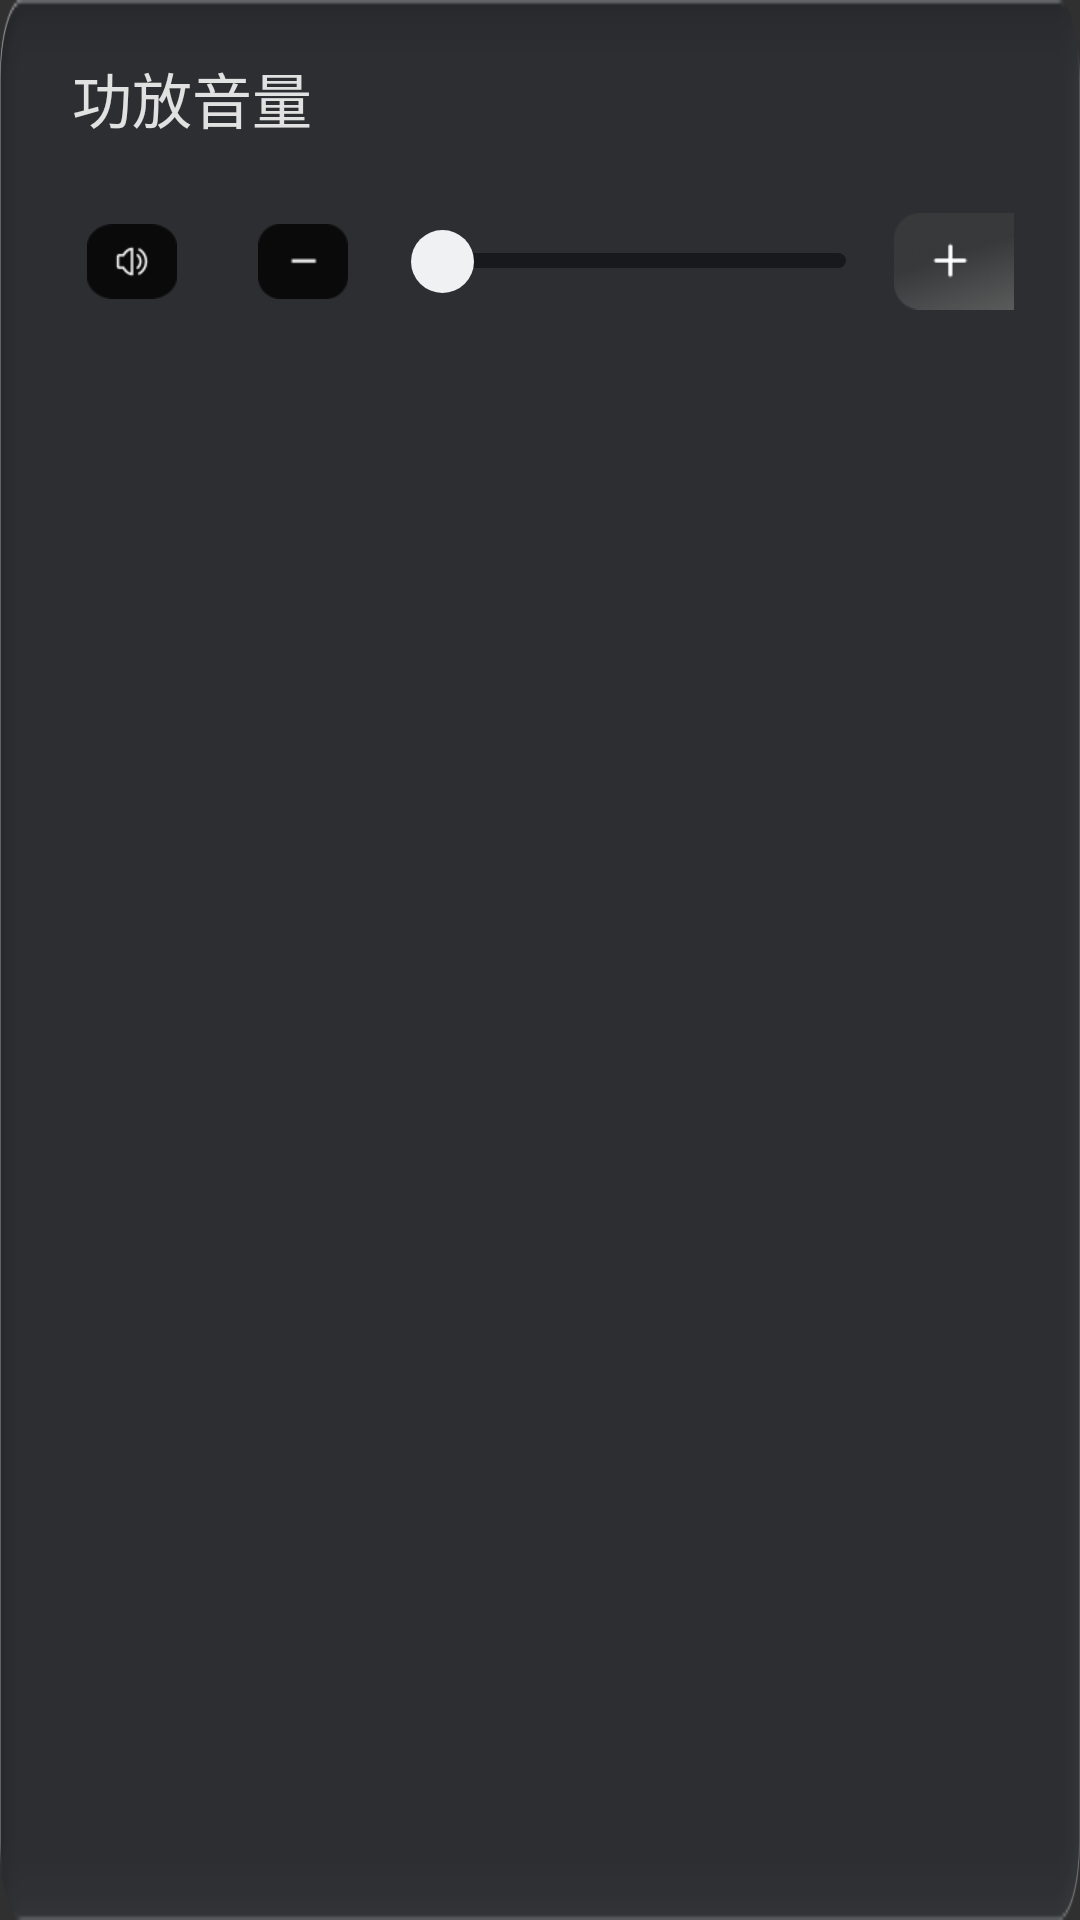

Icon bounding boxes for this 1080*1920 phone screenshot, format (x1, y1, x2, y2):
volume down: (258, 224, 348, 299)
volume up: (894, 213, 1014, 310)
静音: (87, 224, 177, 299)
